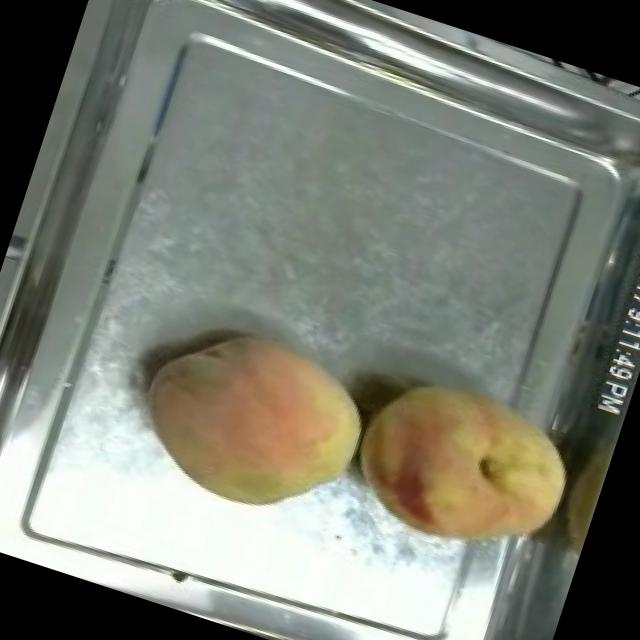Fruit: (116, 298, 388, 544), (328, 349, 600, 589)
